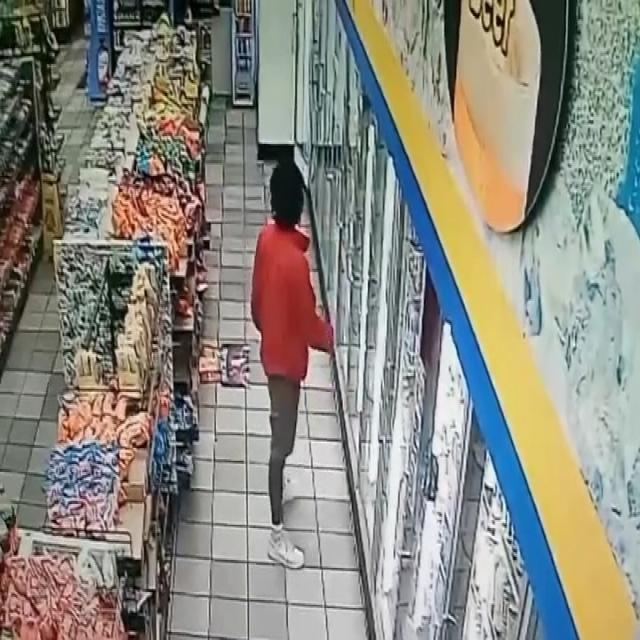Normal: (247, 151, 338, 590)
